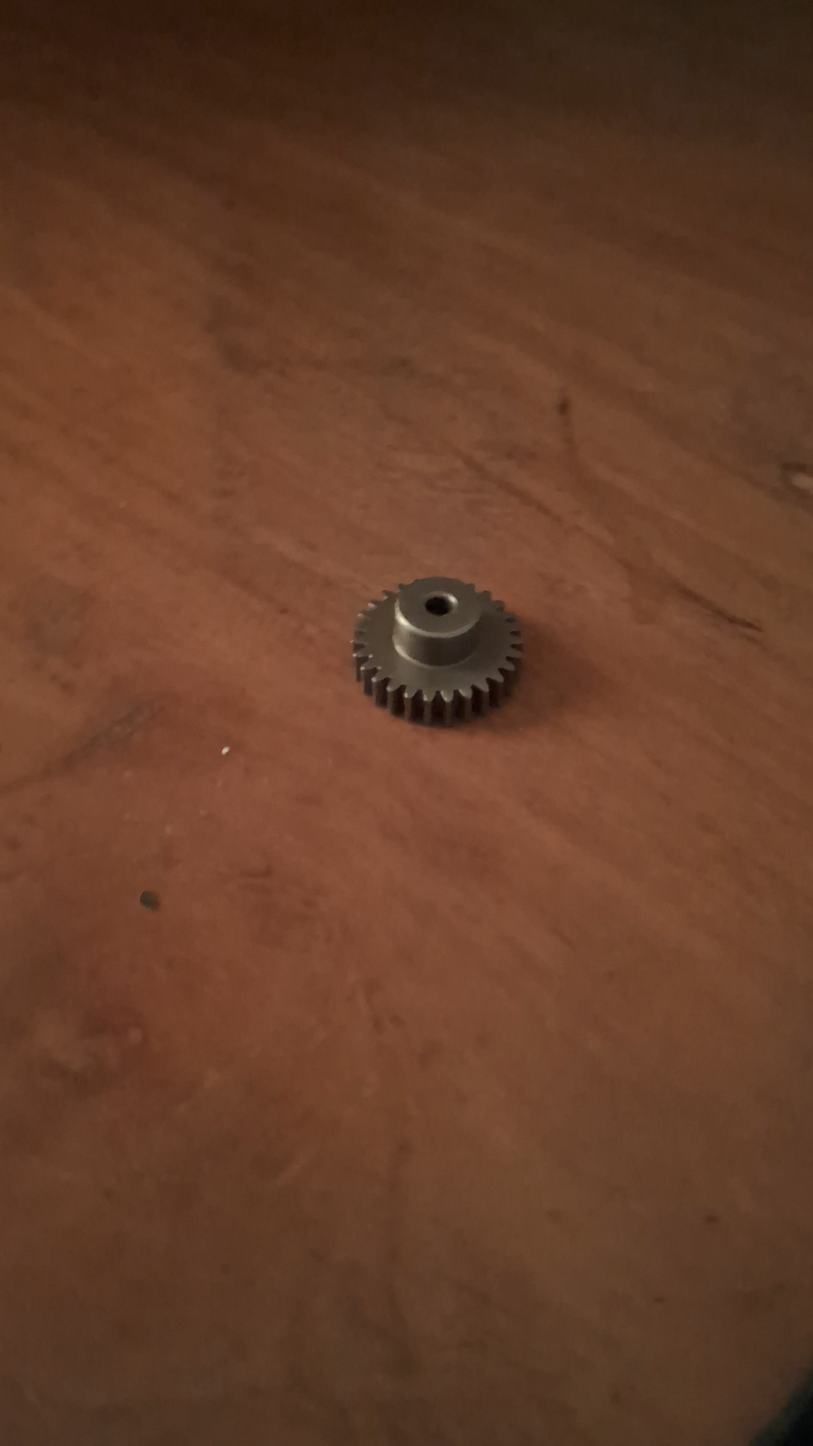spur gear: (353, 577, 521, 723)
